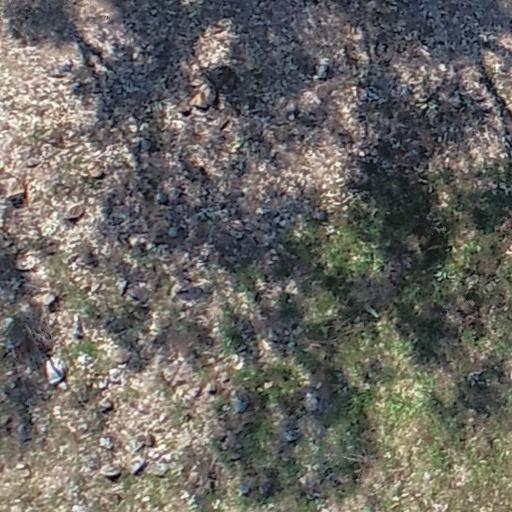stone: (16, 250, 42, 272), (4, 175, 24, 203), (48, 358, 66, 385), (32, 293, 58, 310), (62, 202, 85, 217), (101, 463, 123, 478), (98, 394, 115, 411), (72, 314, 84, 338), (153, 460, 169, 476), (129, 456, 145, 470), (234, 483, 250, 497), (96, 437, 112, 447), (167, 227, 179, 238)
